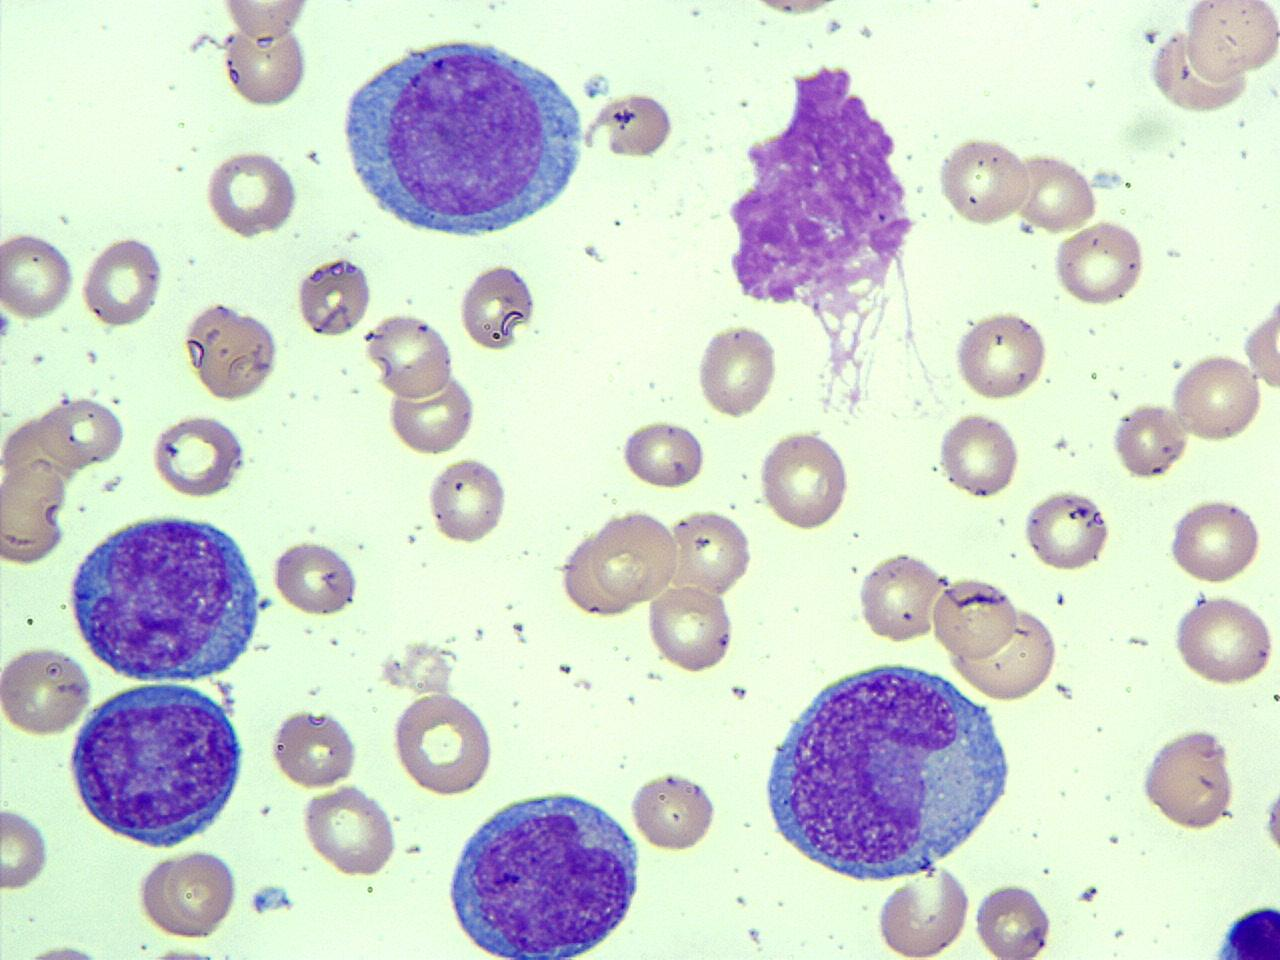Platelets: (245, 880, 297, 918), (1260, 780, 1280, 863), (148, 941, 218, 960), (1088, 165, 1126, 193), (579, 69, 611, 101), (0, 307, 13, 342), (1014, 219, 1036, 236), (1145, 27, 1161, 46)
RBC: (388, 691, 498, 796), (1139, 724, 1239, 832), (181, 300, 282, 404), (756, 425, 852, 533), (1170, 593, 1276, 689), (873, 860, 974, 960), (934, 132, 1036, 230), (950, 307, 1050, 404), (957, 606, 1058, 702), (299, 782, 400, 878), (0, 640, 93, 740), (202, 147, 302, 239), (1168, 351, 1266, 444), (1166, 493, 1264, 586), (854, 548, 946, 646), (590, 507, 680, 606), (694, 319, 780, 422), (147, 411, 247, 499), (79, 231, 168, 329), (1051, 218, 1147, 308), (557, 519, 641, 619), (268, 704, 363, 790), (425, 452, 510, 548), (365, 310, 455, 400), (646, 584, 736, 674), (218, 23, 311, 110), (1181, 0, 1279, 82), (666, 506, 754, 597), (936, 408, 1022, 501), (1022, 486, 1112, 574), (158, 844, 240, 940), (456, 259, 538, 355), (930, 573, 1020, 660), (628, 767, 718, 854), (384, 372, 476, 455), (0, 225, 77, 324), (1014, 149, 1102, 235), (270, 537, 360, 619), (618, 415, 707, 492), (0, 468, 69, 566), (36, 395, 127, 469), (972, 878, 1054, 960), (294, 253, 373, 338), (586, 89, 676, 162), (1111, 400, 1189, 483), (0, 801, 53, 893), (215, 0, 317, 41), (1242, 290, 1280, 398)
WBC: (712, 50, 930, 358), (754, 652, 1020, 887), (334, 26, 590, 249), (438, 782, 644, 960), (64, 505, 265, 687), (64, 675, 248, 853), (1192, 898, 1280, 959)
